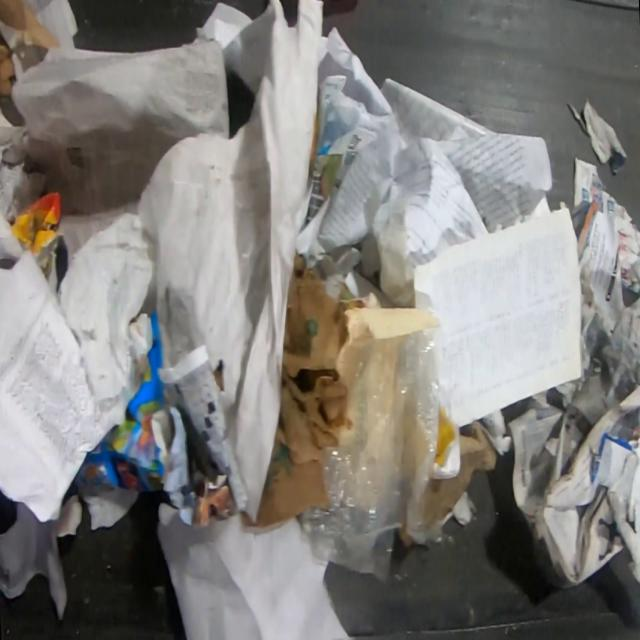cardboard: (257, 253, 352, 528), (423, 422, 498, 522)
soft_plastic: (302, 305, 444, 584)
